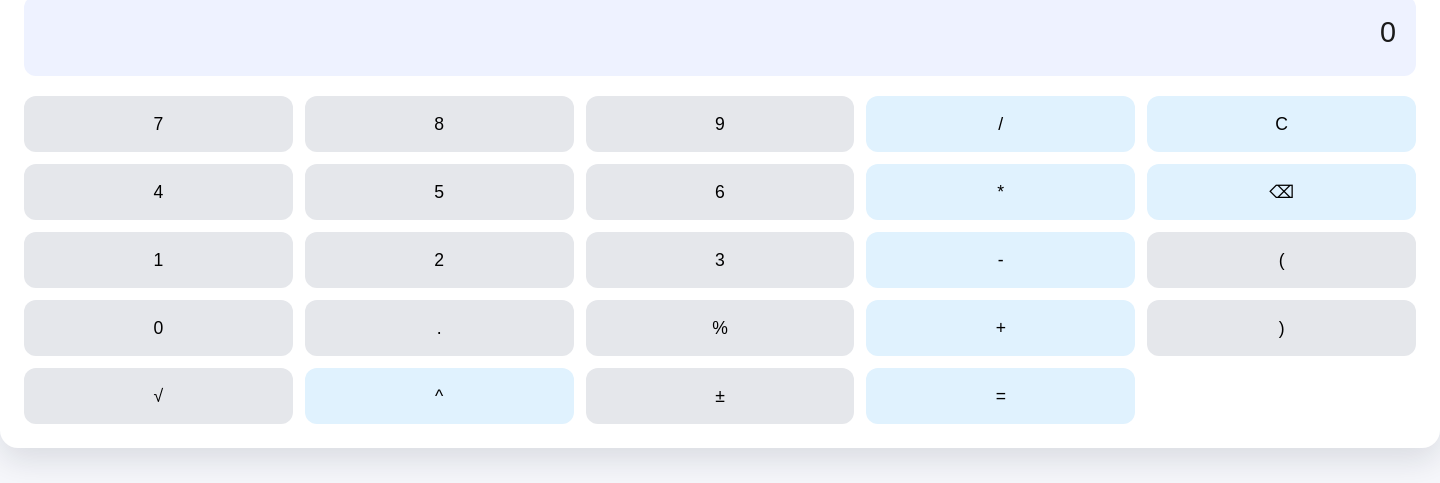
it: Calculator › clears expression when clear is pressed
This screenshot has width=1440, height=483.
Click the button "1" at {"x": 158, "y": 260}, box [24,232,293,288]
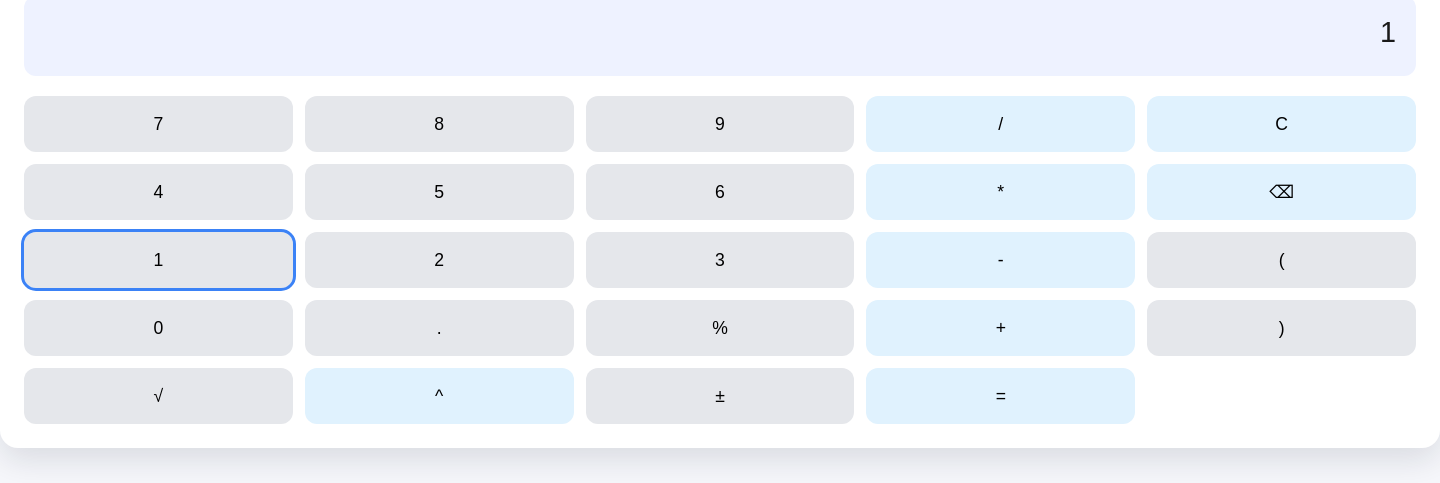
Click the button "C" at {"x": 1282, "y": 124}, box [1147,96,1416,152]
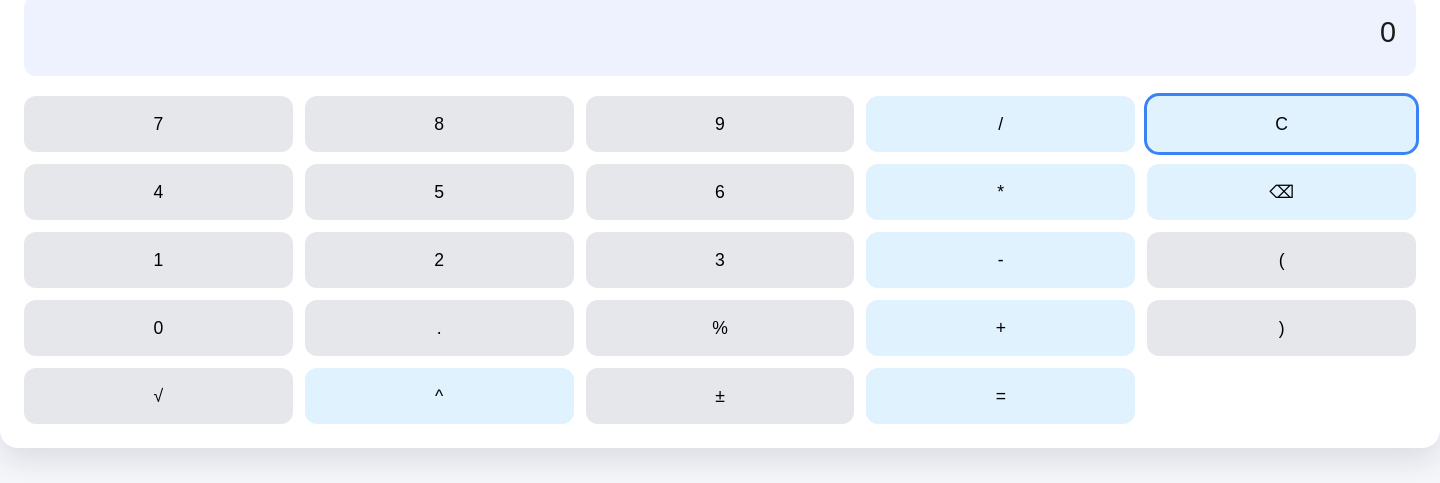
Now the text named "calculator display" reads "0", box [1380,16,1396,48]
